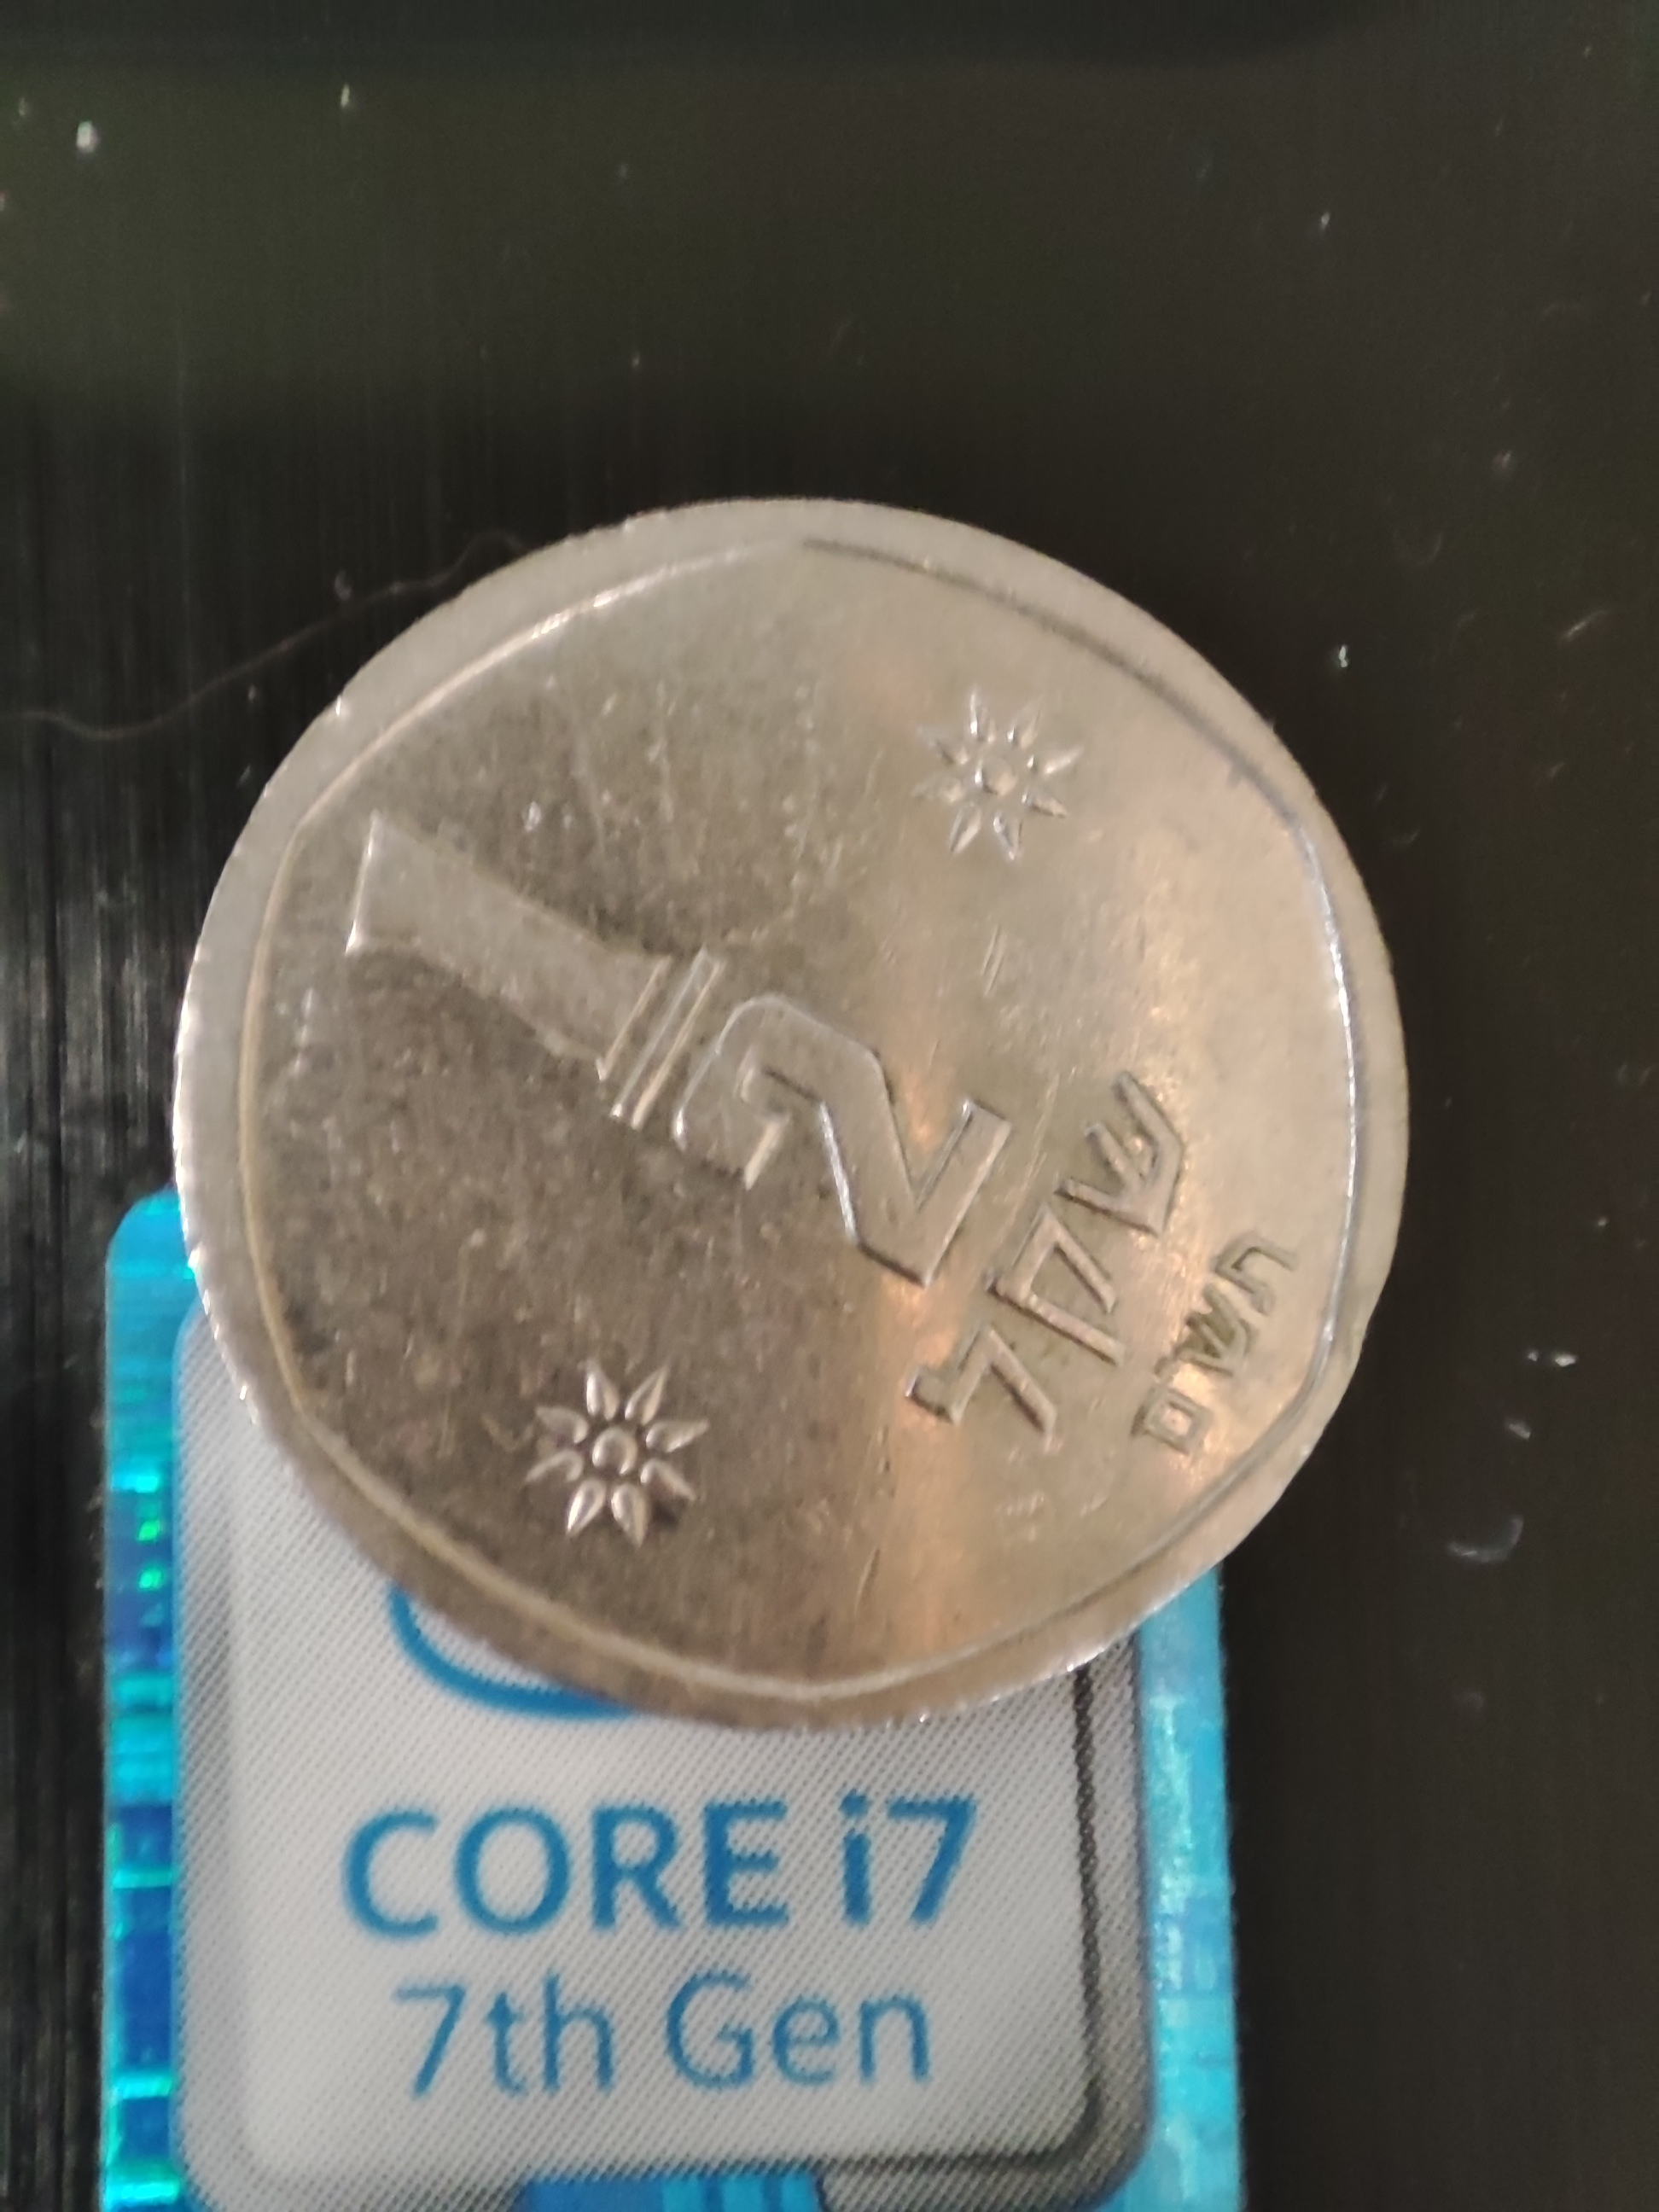1/2 old sheqel: (169, 493, 1422, 1735)
